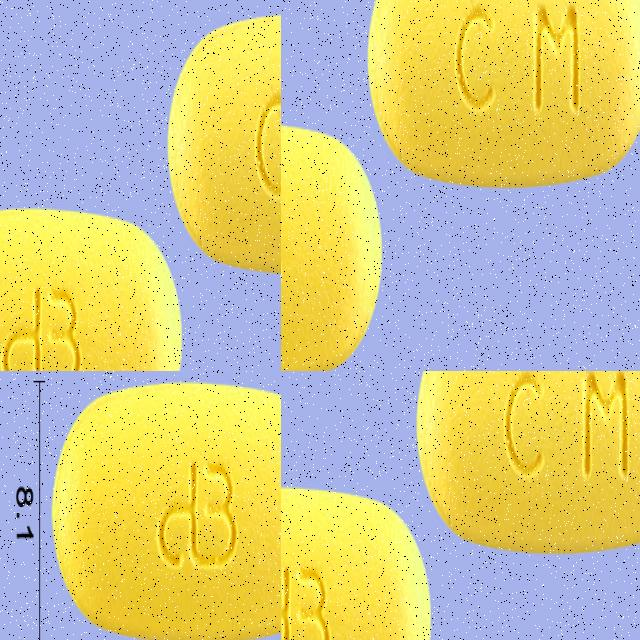Aclova: (378, 0, 626, 371), (281, 0, 343, 371)
Aclova 400mg: (48, 371, 281, 640)
Claridon: (414, 371, 640, 562), (281, 477, 433, 640)
